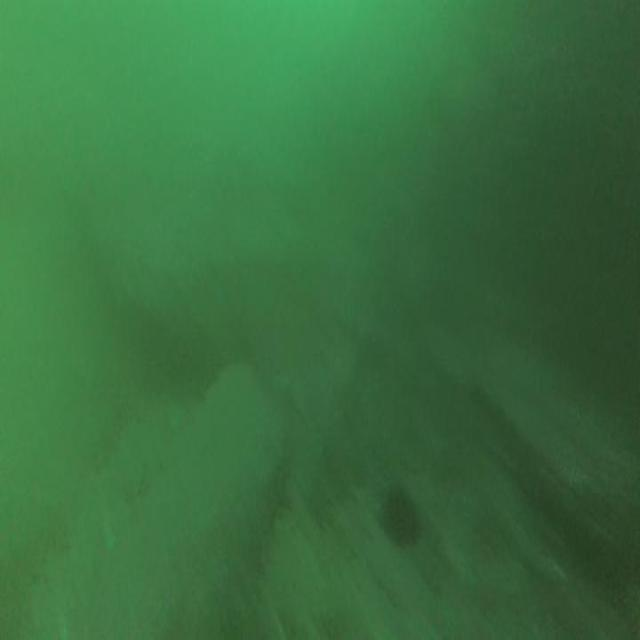echinus: (377, 476, 423, 556)
